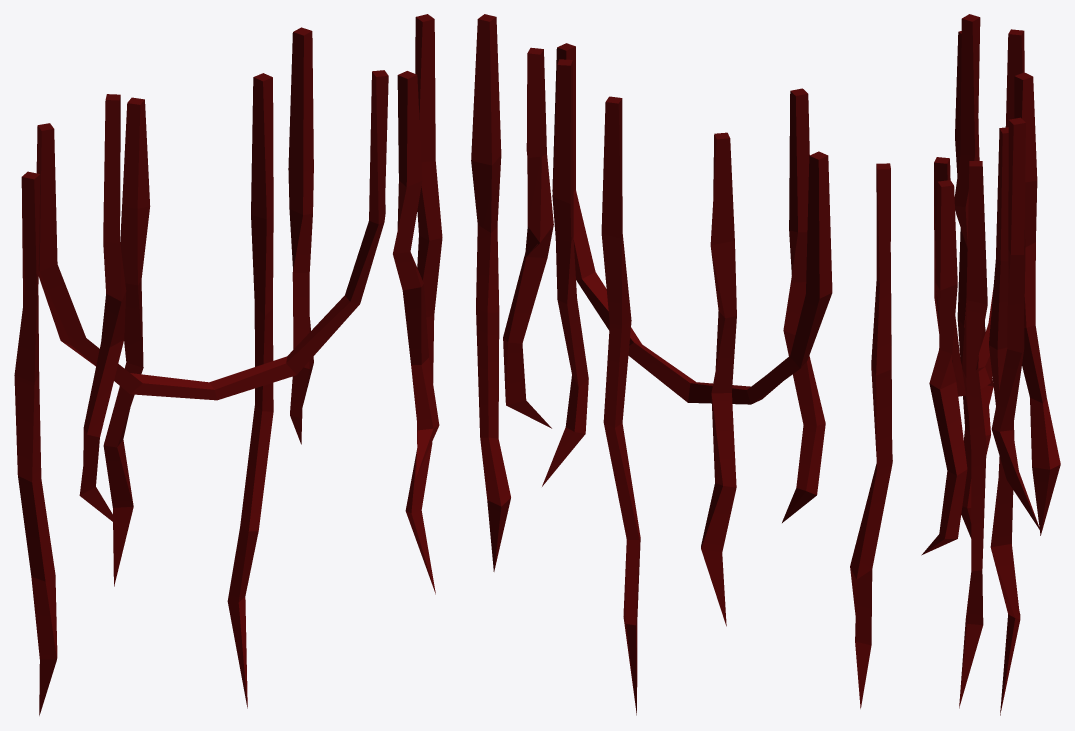
Rendered from SM_Env_Vines_01.gltf.
3 views of the same model, side by side, from view 1: azimuth 30°, elevation 25°; view 2: azimuth 150°, elevation 25°; view 3: azimuth 270°, elevation 25° (orthographic). The views are drawn at different scales.
Parts seen in each view (by area): view 1: SM_Env_Vines_01; view 2: SM_Env_Vines_01; view 3: SM_Env_Vines_01.
Boxes of the visible parts, bbox=[...] form: SM_Env_Vines_01: bbox=[14, 14, 442, 715]; SM_Env_Vines_01: bbox=[471, 14, 892, 715]; SM_Env_Vines_01: bbox=[921, 14, 1060, 715].
Size of the model in its own units: 1.43 by 2.14 by 0.4303.
